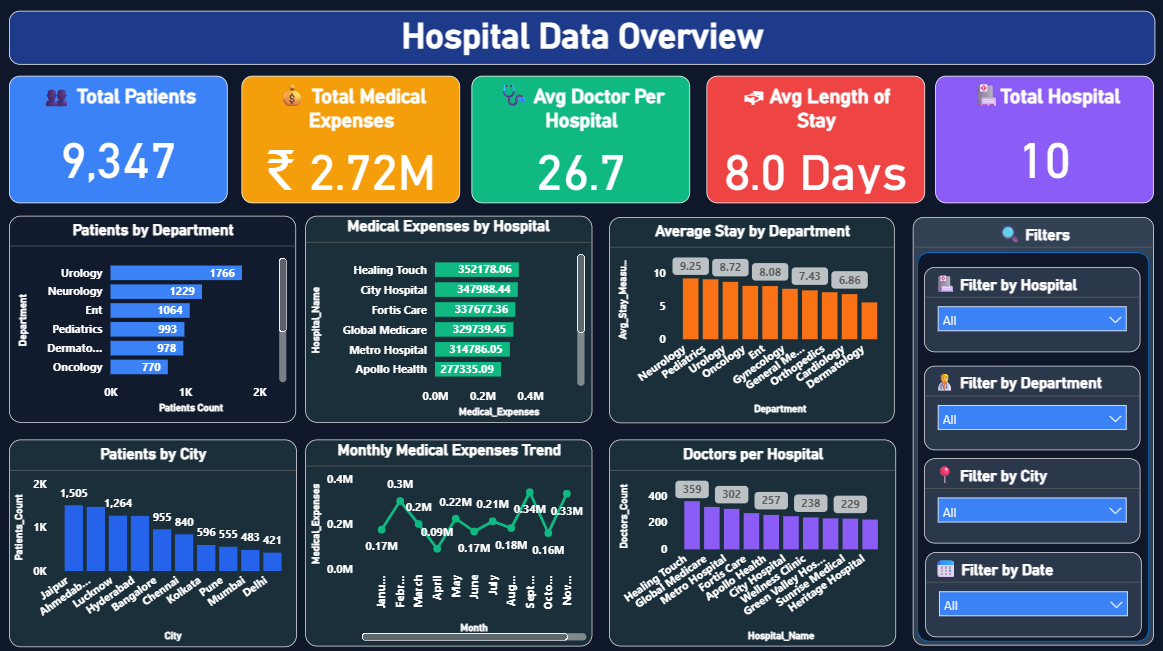

This screenshot's page, from the dashboard's own definition file:
{"tool":"powerbi","page":{"name":"Page 1","canvas":[1280,720],"ordinal":0},"visuals":[{"type":"card","title":"👥 Total Patients","fields":{"Values":["Cleaning_Hospital_Data.Total_Patients"]},"box":[11,86.4,240.1,140],"z":0},{"type":"card","title":"💰 Total Medical Expenses","fields":{"Values":["Cleaning_Hospital_Data.Total_Medical_Expenses"]},"box":[266.2,86.4,240.1,140],"z":1000},{"type":"card","title":"🩺 Avg Doctor Per Hospital","fields":{"Values":["Cleaning_Hospital_Data.Average_Doctor_Per_Hospital"]},"box":[518.7,86.4,240.1,140],"z":2000},{"type":"card","title":"🛏 Avg Length of Stay","fields":{"Values":["Cleaning_Hospital_Data.Average Length of Stay"]},"box":[776.7,86.4,240.1,140],"z":3000},{"type":"card","title":"🏥Total Hospital","fields":{"Values":["Cleaning_Hospital_Data.Total_Hospitals"]},"box":[1027.8,86.4,240.1,140],"z":4000},{"type":"textbox","title":"Hospital Data Overview","box":[10.4,14.8,1258,59.3],"z":5000},{"type":"clusteredBarChart","title":"Patients by Department","fields":{"Category":["Cleaning_Hospital_Data.Department"],"Y":["Sum(Cleaning_Hospital_Data.Patients_Count)"]},"box":[11,240.1,315,227],"z":6000},{"type":"clusteredBarChart","title":"Medical Expenses by Hospital","fields":{"Category":["Cleaning_Hospital_Data.Hospital_Name"],"Y":["Sum(Cleaning_Hospital_Data.Medical_Expenses)"]},"box":[336.2,240.1,315,227],"z":7000},{"type":"clusteredColumnChart","title":"Patients by City","fields":{"Category":["Cleaning_Hospital_Data.Location"],"Y":["Sum(Cleaning_Hospital_Data.Patients_Count)"]},"box":[11,485.8,315.6,227.8],"z":8000},{"type":"lineChart","title":"Monthly Medical Expenses Trend","fields":{"Category":["Cleaning_Hospital_Data.Admission_Date.Variation.Date Hierarchy.Month"],"Y":["Sum(Cleaning_Hospital_Data.Medical_Expenses)"]},"box":[335.9,486.2,315,227],"z":9000},{"type":"lineStackedColumnComboChart","title":"Average Stay by Department","fields":{"Category":["Cleaning_Hospital_Data.Department"],"Y":["Avg(Cleaning_Hospital_Data.Stay_Days)"]},"box":[669.4,241.7,313.9,226.4],"z":10000},{"type":"lineClusteredColumnComboChart","title":"Doctors per Hospital","fields":{"Category":["Cleaning_Hospital_Data.Hospital_Name"],"Y":["Sum(Cleaning_Hospital_Data.Doctors_Count)"]},"box":[669,486,315,227],"z":11000},{"type":"shape","title":"🔍 Filters","box":[1003.1,241.5,264.8,470.7],"z":12000},{"type":"slicer","title":"🏥 Filter by Hospital","fields":{"Values":["Cleaning_Hospital_Data.Hospital_Name"]},"box":[1015.4,296.4,237.4,93.3],"z":13000},{"type":"slicer","title":"🧑⚕️ Filter by Department","fields":{"Values":["Cleaning_Hospital_Data.Department"]},"box":[1015.4,404.8,237.4,93],"z":14000},{"type":"slicer","title":"📍 Filter by City","fields":{"Values":["Cleaning_Hospital_Data.Location"]},"box":[1015.4,506.3,237.4,93.3],"z":15000},{"type":"slicer","title":"📅 Filter by Date","fields":{"Values":["Cleaning_Hospital_Data.Admission_Date"]},"box":[1016.8,609.3,237.4,93.3],"z":16000}]}

Visuals, with their boxes in screenshot pixels (x1, y1, x2, y2), scaled from the page's 1280x720 canvas onto the 1163x651 screenshot:
"👥 Total Patients" card: 10 78 228 205
"💰 Total Medical Expenses" card: 242 78 460 205
"🩺 Avg Doctor Per Hospital" card: 471 78 689 205
"🛏 Avg Length of Stay" card: 706 78 924 205
"🏥Total Hospital" card: 934 78 1152 205
"Hospital Data Overview" textbox: 9 13 1152 67
"Patients by Department" clusteredBarChart: 10 217 296 422
"Medical Expenses by Hospital" clusteredBarChart: 305 217 592 422
"Patients by City" clusteredColumnChart: 10 439 297 645
"Monthly Medical Expenses Trend" lineChart: 305 440 591 645
"Average Stay by Department" lineStackedColumnComboChart: 608 219 893 423
"Doctors per Hospital" lineClusteredColumnComboChart: 608 439 894 645
"🔍 Filters" shape: 911 218 1152 644
"🏥 Filter by Hospital" slicer: 923 268 1138 352
"🧑⚕️ Filter by Department" slicer: 923 366 1138 450
"📍 Filter by City" slicer: 923 458 1138 542
"📅 Filter by Date" slicer: 924 551 1140 635
